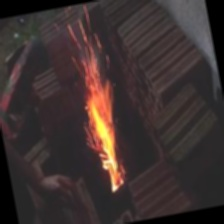fire: (51, 14, 149, 208)
